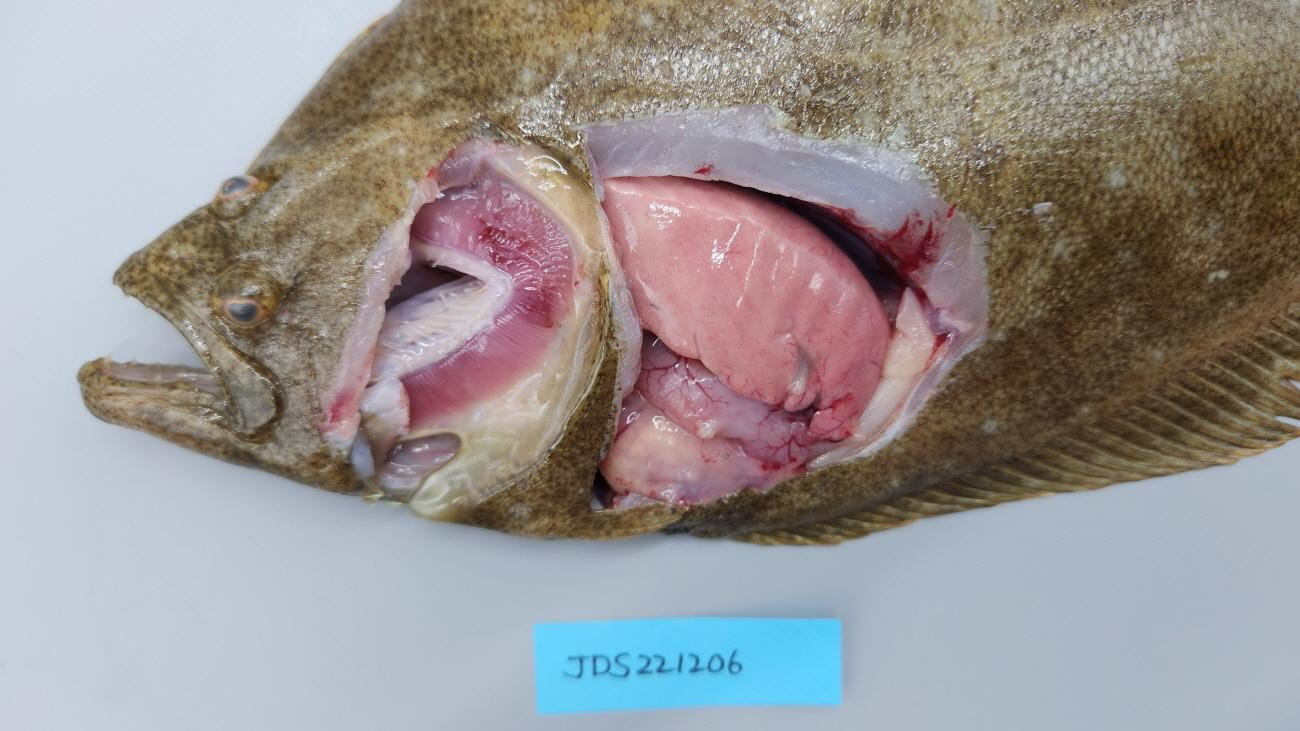SPGIN: (456, 184, 571, 327)
